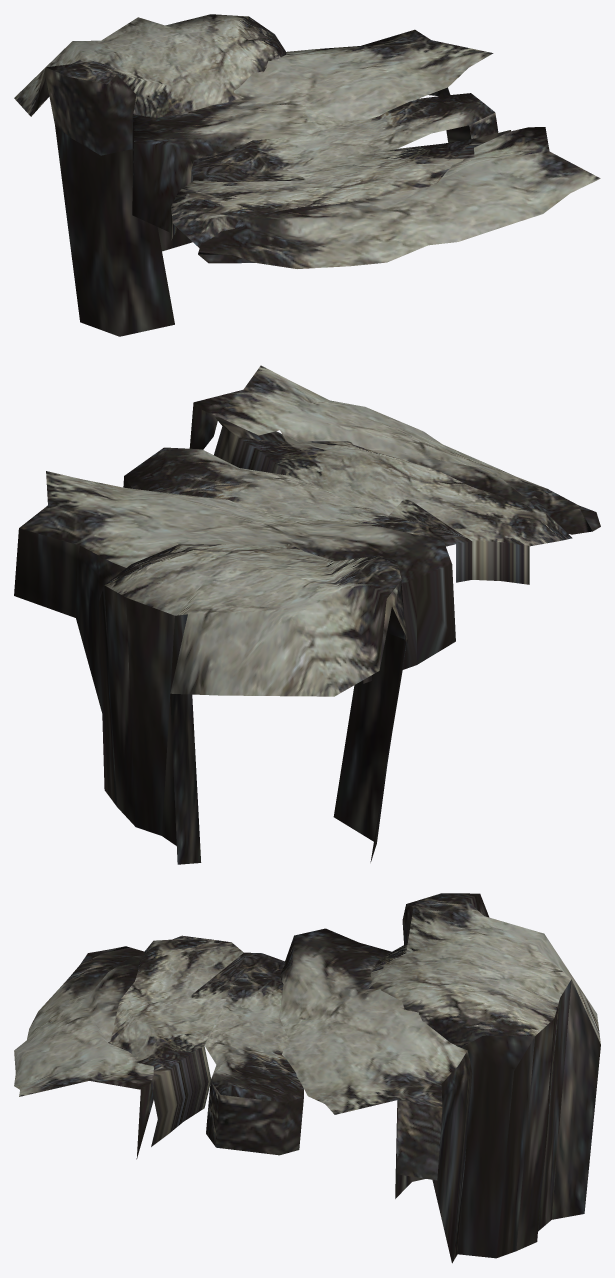
Rendered from S_Build_Desert128_1.FBX.
The picture shows the model from 3 angles, top to bottom: view 1: azimuth 30°, elevation 25°; view 2: azimuth 150°, elevation 25°; view 3: azimuth 270°, elevation 25°; orthographic projection. The views are drawn at different scales.
Parts seen in each view (by area): view 1: S_Build_Desert128_1; view 2: S_Build_Desert128_1; view 3: S_Build_Desert128_1.
Boxes of the visible parts, x1,y1,x2,y2 form: S_Build_Desert128_1: [14, 14, 600, 336]; S_Build_Desert128_1: [14, 365, 600, 864]; S_Build_Desert128_1: [14, 893, 600, 1263].
Size of the model in its own units: 707 by 447 by 869.
